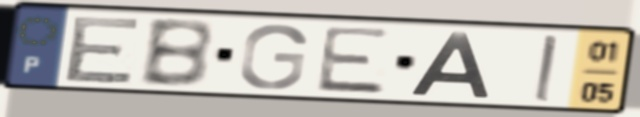A: (404, 29, 493, 99)
B: (136, 17, 216, 90)
E: (60, 15, 146, 85), (312, 25, 395, 97)
G: (236, 22, 311, 92)
I: (531, 32, 560, 104)
